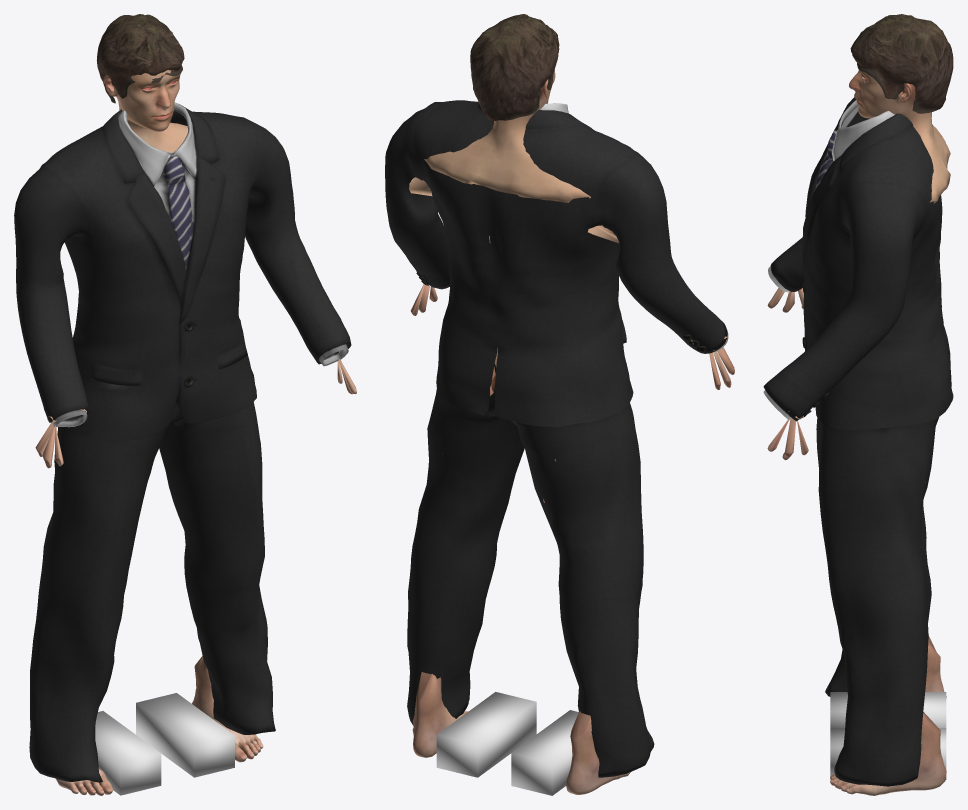
File: player_1865.glb
3 renders of one model, left to right at view 1: azimuth 30°, elevation 25°; view 2: azimuth 150°, elevation 25°; view 3: azimuth 270°, elevation 25°, orthographic.
Visible parts, largest first — view 1: clothes_male_elegantsuit01, shoes, Human, hair_short02; view 2: clothes_male_elegantsuit01, Human, shoes, hair_short02; view 3: clothes_male_elegantsuit01, Human, hair_short02, shoes.
Part boxes in pixels (x1,y1,x2,y2): clothes_male_elegantsuit01: (14,102,351,782); shoes: (95,693,234,795); Human: (35,70,356,795); hair_short02: (96,14,184,103); clothes_male_elegantsuit01: (385,100,728,777); Human: (409,67,734,794); shoes: (436,692,578,795); hair_short02: (470,14,559,120); clothes_male_elegantsuit01: (763,97,953,786); Human: (767,69,950,795); hair_short02: (850,14,953,113); shoes: (830,692,946,779).
Bounding box in the file's own units: 0.7968 × 1.81 × 0.4264.
Materials: 5 (4 with a texture image).
